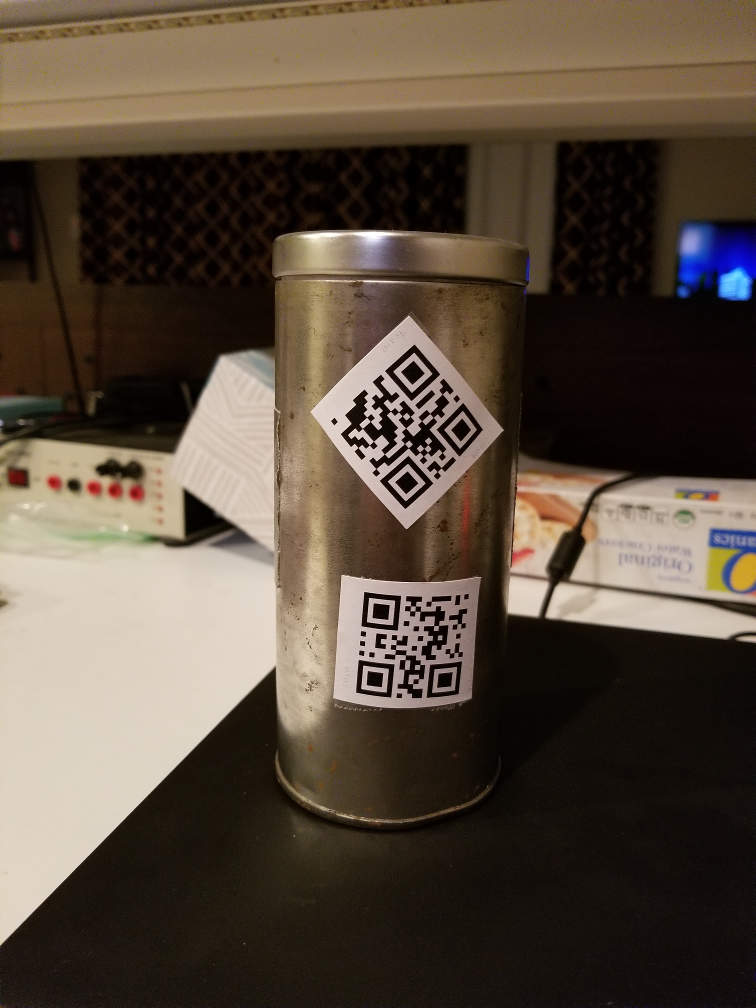QR_CODE: (316, 324, 495, 516), (341, 564, 480, 709)
